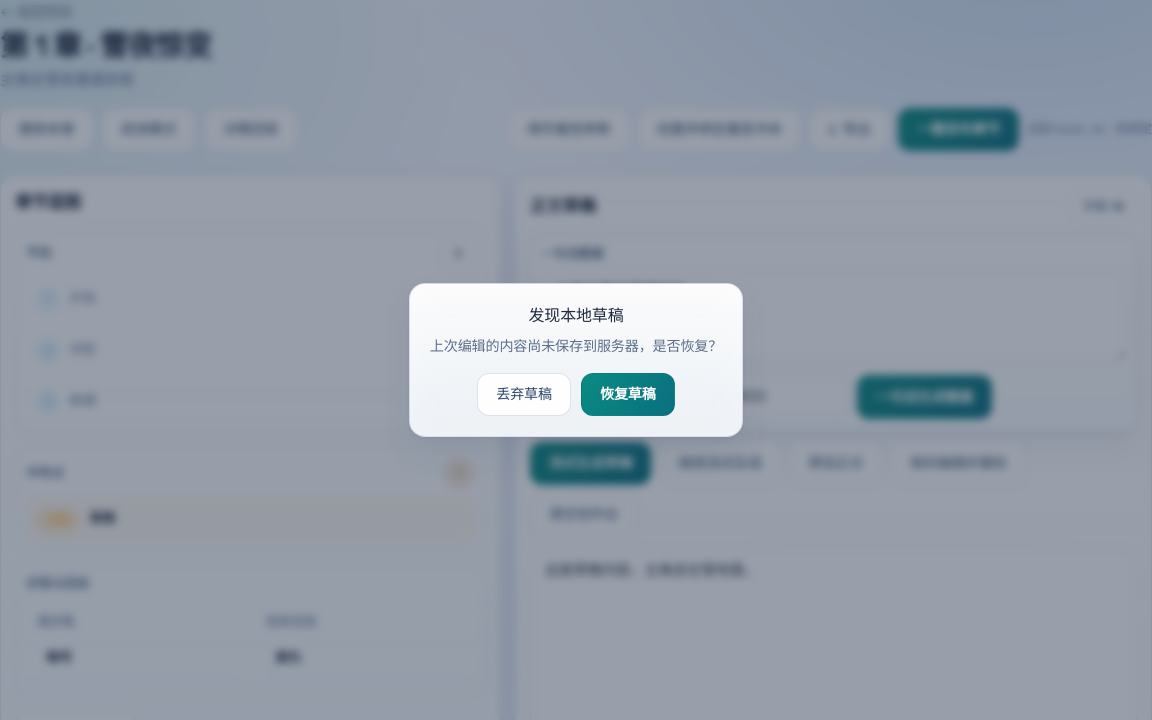
it: ChapterWorkbenchPage › 自动保存 › 点击恢复草稿后恢复内容并进入编辑模式
This screenshot has width=1152, height=720.
Expected: the text "发现本地草稿" is shown, [528, 305, 624, 326]
Click the button "恢复草稿".
click(628, 395)  # box [581, 373, 675, 416]
(page scrolled)
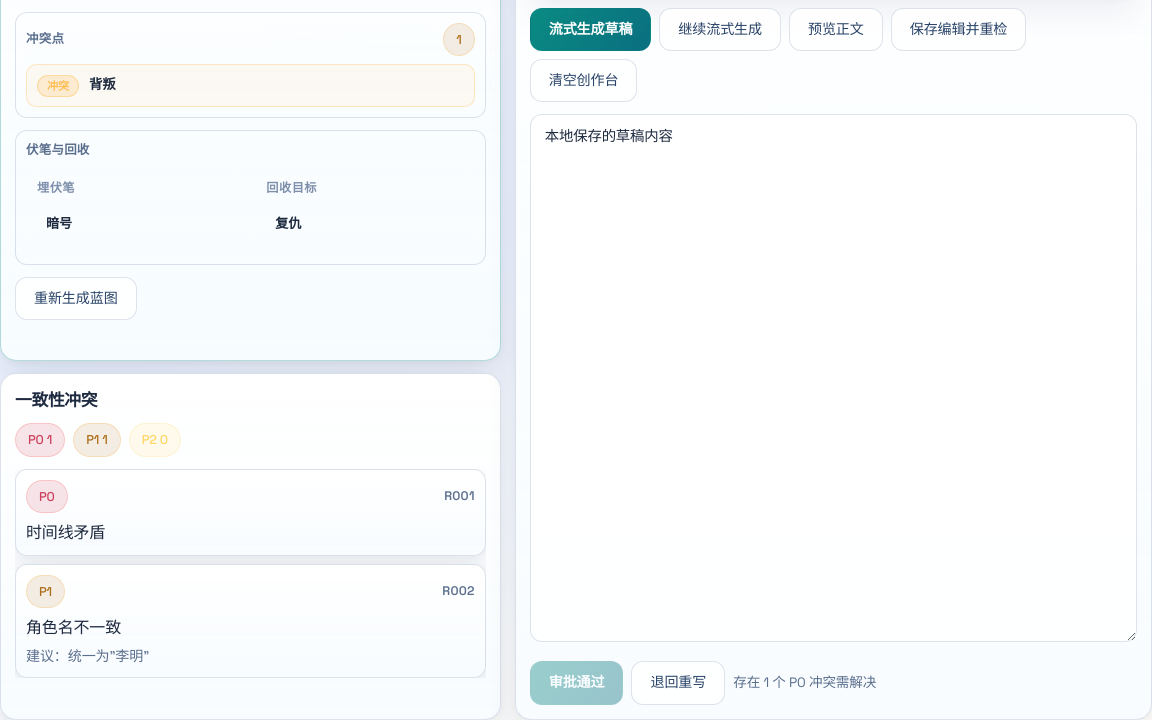
Expected: the button "预览正文" is shown, [789, 8, 883, 51]
Expected: the text "发现本地草稿" is gone
